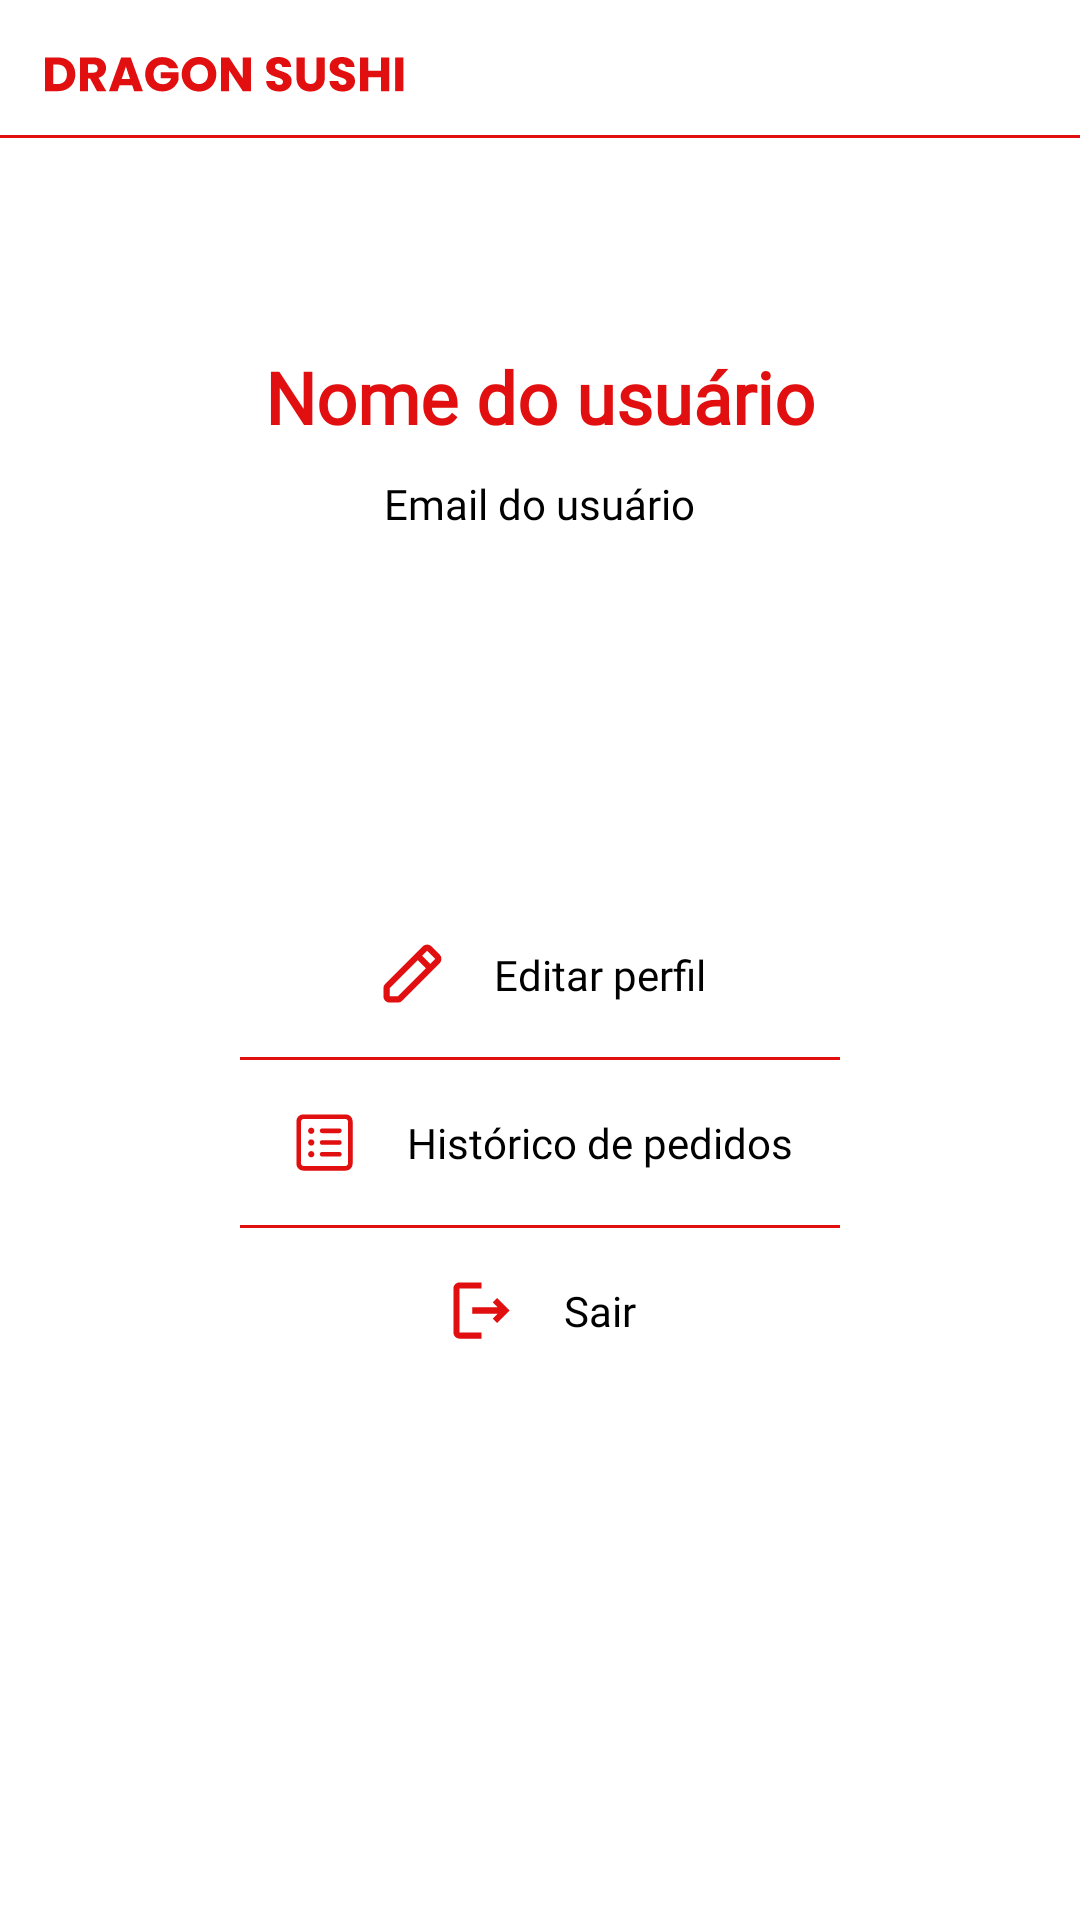

Screen size 1080x1920. Icon name, then its box in pixels as (x1, y1, x2, y2):
pen: (383, 944, 442, 1003)
